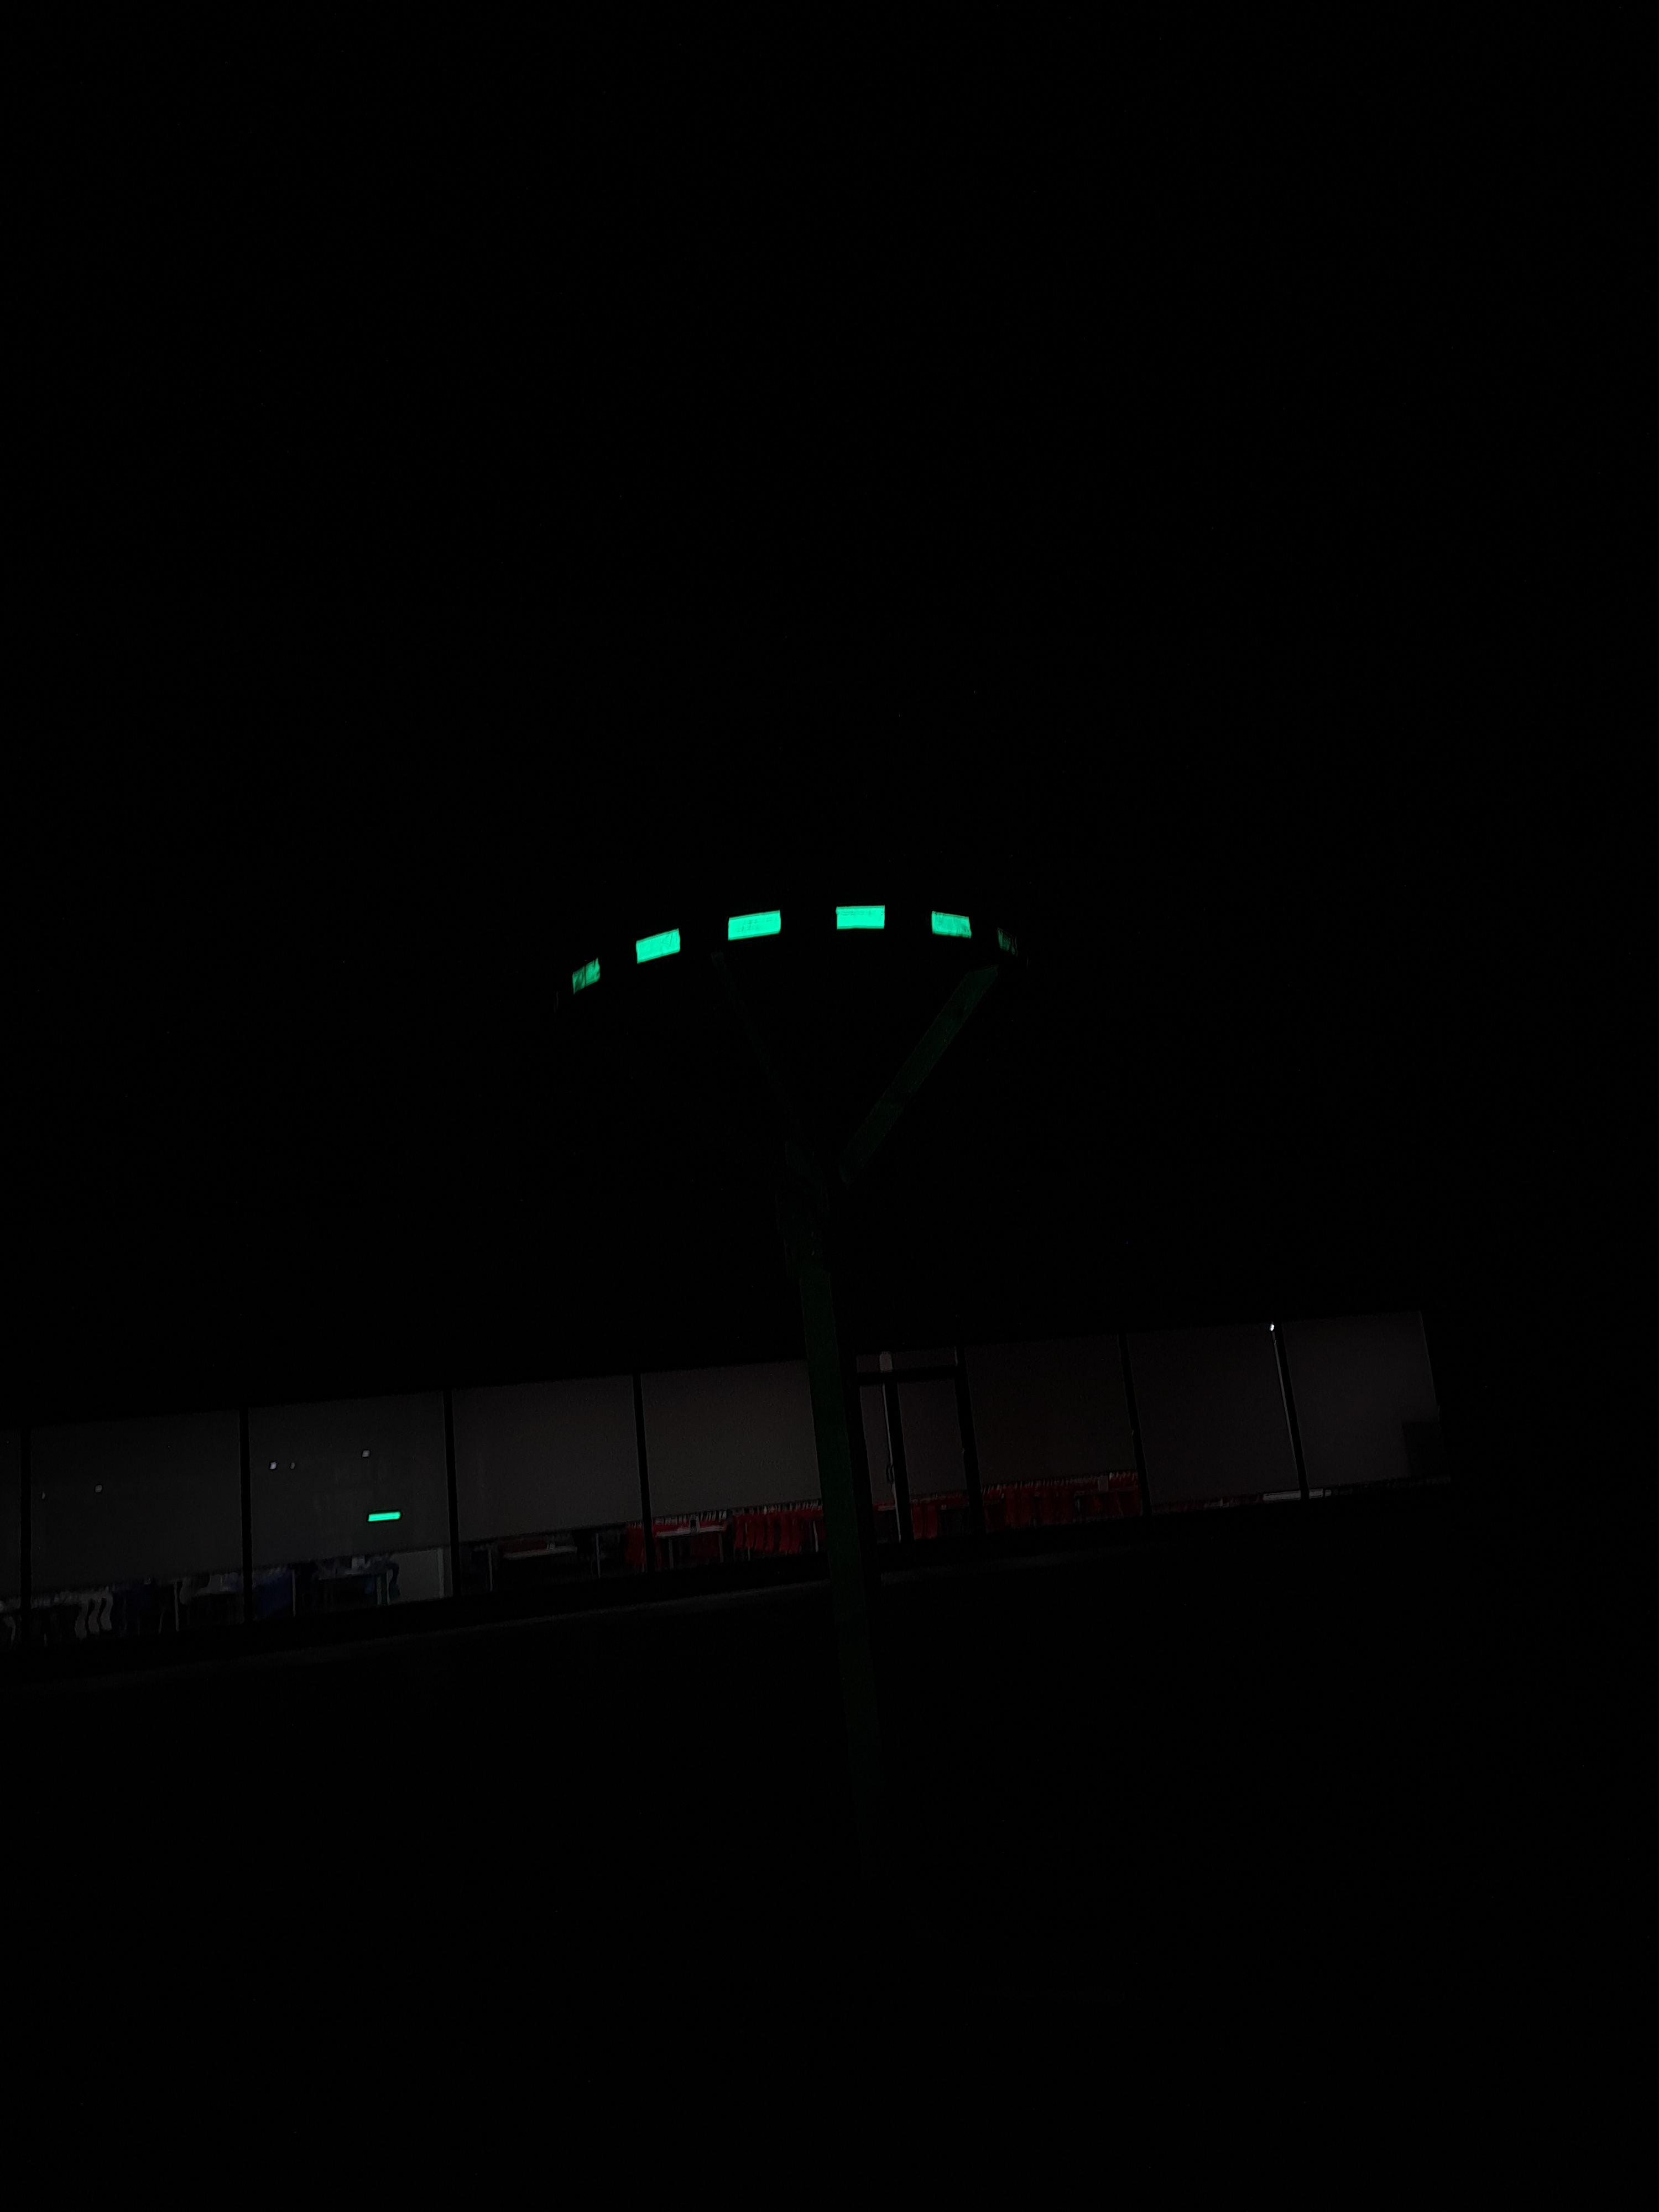hoop: (565, 904, 1023, 1007)
